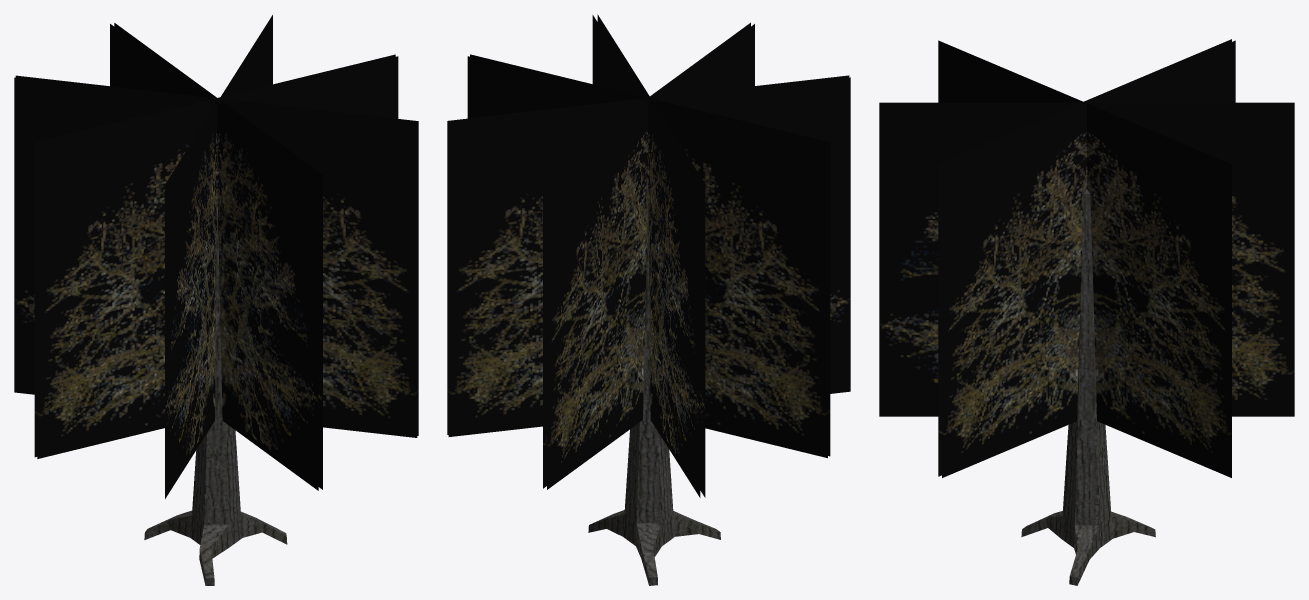
File: tree01_winter.gltf
The picture shows the model from 3 angles, left to right: view 1: azimuth 30°, elevation 25°; view 2: azimuth 150°, elevation 25°; view 3: azimuth 270°, elevation 25°; orthographic projection.
Parts seen in each view (by area): view 1: tree01_top, tree01; view 2: tree01_top, tree01; view 3: tree01_top, tree01.
Boxes of the visible parts, x1,y1,x2,y2 form: tree01_top: (14, 15, 418, 498); tree01: (144, 193, 287, 585); tree01_top: (447, 14, 850, 497); tree01: (588, 191, 720, 585); tree01_top: (879, 39, 1294, 477); tree01: (1021, 190, 1155, 585).
Bounding box in the file's own units: 3.36 × 4.04 × 3.36.
1 material, 1 textured.
